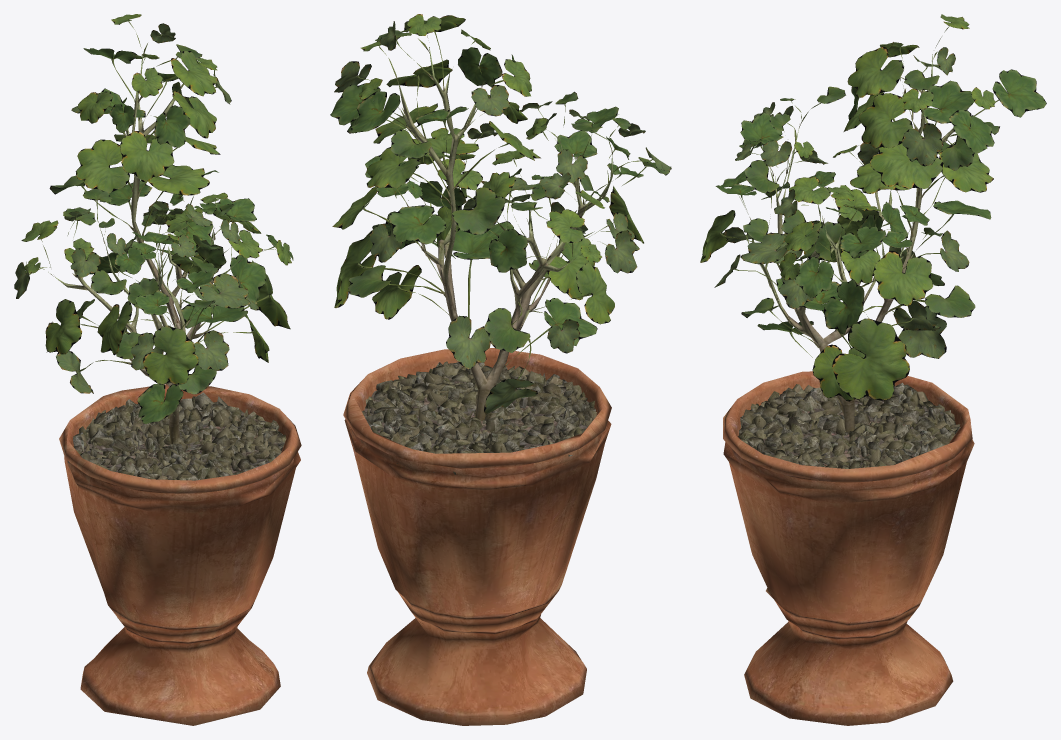
File: potted_plant_01.glb
3 renders of one model, left to right at view 1: azimuth 30°, elevation 25°; view 2: azimuth 150°, elevation 25°; view 3: azimuth 270°, elevation 25°, orthographic. The views are drawn at different scales.
Visible parts, largest first — view 1: potted_plant_01_pot, potted_plant_01_leaves, potted_plant_01_pebbles, potted_plant_01_stem; view 2: potted_plant_01_pot, potted_plant_01_leaves, potted_plant_01_pebbles, potted_plant_01_stem; view 3: potted_plant_01_pot, potted_plant_01_leaves, potted_plant_01_pebbles, potted_plant_01_stem.
Boxes of the visible parts, bbox=[...] form: potted_plant_01_pot: bbox=[59, 384, 301, 725]; potted_plant_01_leaves: bbox=[14, 14, 293, 423]; potted_plant_01_pebbles: bbox=[68, 392, 286, 480]; potted_plant_01_stem: bbox=[55, 54, 239, 444]; potted_plant_01_pot: bbox=[343, 348, 611, 725]; potted_plant_01_leaves: bbox=[330, 14, 671, 414]; potted_plant_01_pebbles: bbox=[361, 361, 596, 474]; potted_plant_01_stem: bbox=[398, 47, 612, 420]; potted_plant_01_pot: bbox=[723, 371, 974, 725]; potted_plant_01_leaves: bbox=[700, 14, 1046, 401]; potted_plant_01_pebbles: bbox=[738, 382, 966, 468]; potted_plant_01_stem: bbox=[751, 55, 954, 434].
Bounding box in the file's own units: 0.5866 × 1.33 × 0.6336.
2 materials, 2 textured.
